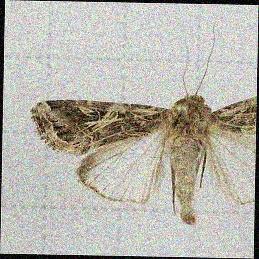Spodoptera litura: (28, 19, 257, 226)
